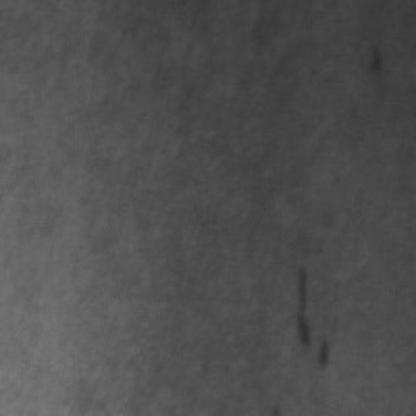inclusion: (285, 258, 335, 372), (358, 33, 387, 79)
